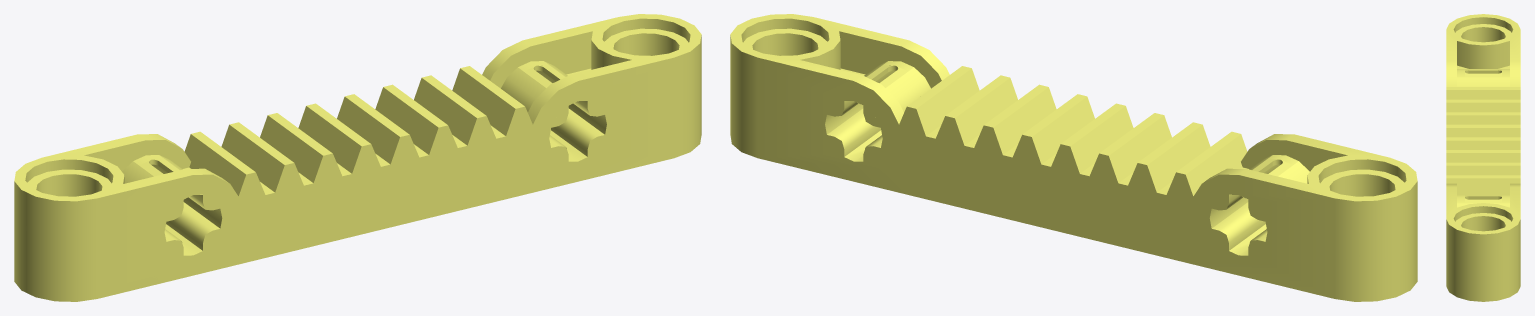
The picture shows the model from 3 angles, left to right: view 1: azimuth 30°, elevation 25°; view 2: azimuth 150°, elevation 25°; view 3: azimuth 270°, elevation 25°; orthographic projection. The views are drawn at different scales.
Parts seen in each view (by area): view 1: 87761.dat; view 2: 87761.dat; view 3: 87761.dat.
Boxes of the visible parts, x1,y1,x2,y2 form: 87761.dat: [14, 14, 701, 301]; 87761.dat: [730, 14, 1417, 301]; 87761.dat: [1446, 14, 1520, 301].
Bounding box in the file's own units: 0.056 × 0.008 × 0.008.
